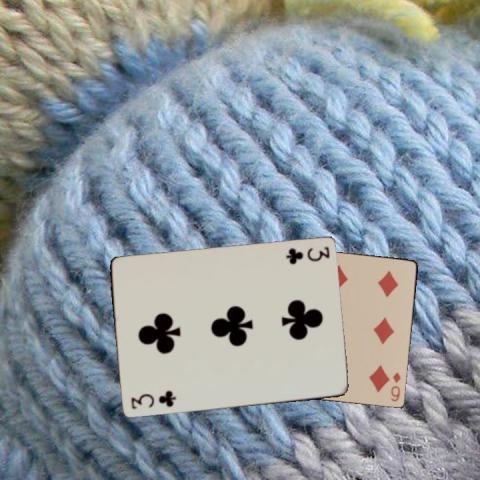3c: (127, 388, 177, 411), (282, 244, 330, 265)
6d: (388, 369, 402, 403)
